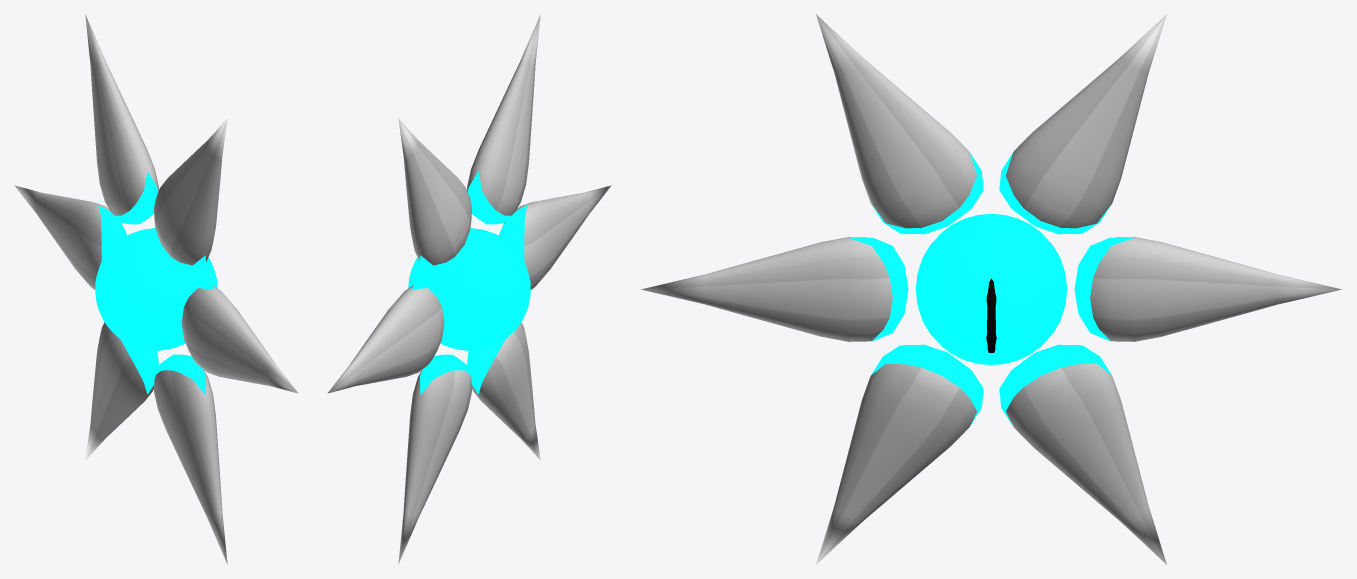
The model's file is RavagerHead.fbx.
The picture shows the model from 3 angles, left to right: view 1: azimuth 30°, elevation 25°; view 2: azimuth 150°, elevation 25°; view 3: azimuth 270°, elevation 25°; orthographic projection. The views are drawn at different scales.
Visible parts, largest first — view 1: Sphere.015, Vert.027, Vert.026, Vert.030, Vert.024, Vert.029, Vert.025; view 2: Sphere.015, Vert.029, Vert.030, Vert.026, Vert.025, Vert.027, Vert.024; view 3: Sphere.015, Vert.024, Vert.025, Vert.027, Vert.026, Vert.030, Vert.029.
Part boxes in pixels (left/top/right/bottom): Sphere.015: left=95, top=228, right=217, bottom=350; Vert.027: left=154, top=354, right=227, bottom=564; Vert.026: left=85, top=14, right=158, bottom=224; Vert.030: left=154, top=118, right=227, bottom=271; Vert.024: left=181, top=282, right=298, bottom=393; Vert.029: left=85, top=322, right=158, bottom=460; Vert.025: left=14, top=185, right=126, bottom=289; Sphere.015: left=408, top=228, right=530, bottom=350; Vert.029: left=398, top=354, right=471, bottom=564; Vert.030: left=467, top=14, right=540, bottom=224; Vert.026: left=398, top=118, right=471, bottom=271; Vert.025: left=327, top=282, right=444, bottom=393; Vert.027: left=467, top=322, right=540, bottom=460; Vert.024: left=499, top=185, right=611, bottom=289; Sphere.015: left=915, top=213, right=1067, bottom=365; Vert.024: left=640, top=237, right=908, bottom=341; Vert.025: left=1074, top=237, right=1342, bottom=341; Vert.027: left=816, top=344, right=983, bottom=564; Vert.026: left=999, top=14, right=1166, bottom=234; Vert.030: left=816, top=14, right=983, bottom=234; Vert.029: left=999, top=344, right=1166, bottom=564.
Size of the model in its own units: 811 by 3209 by 3705.
